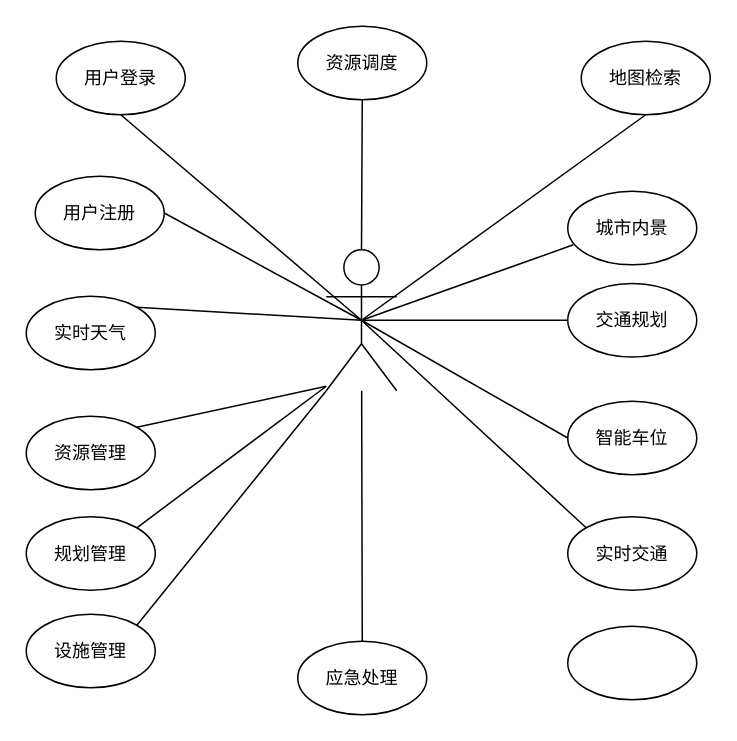
Some shapes in this 737 by 741 pixel diagram are drawn without their labels. The shapes that lost their labels are listed below. From the top down, each one's centre as x and y in pixels, then its label:
At point (361, 319): "管理员用户".
At point (631, 662): "服务管理".
